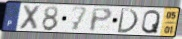7: (70, 6, 88, 32)
8: (40, 5, 62, 32)
D: (116, 7, 140, 34)
P: (89, 7, 114, 33)
Q: (140, 9, 162, 35)
X: (18, 4, 43, 31)
